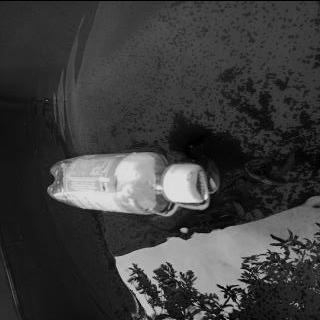bottle: (44, 150, 212, 215)
